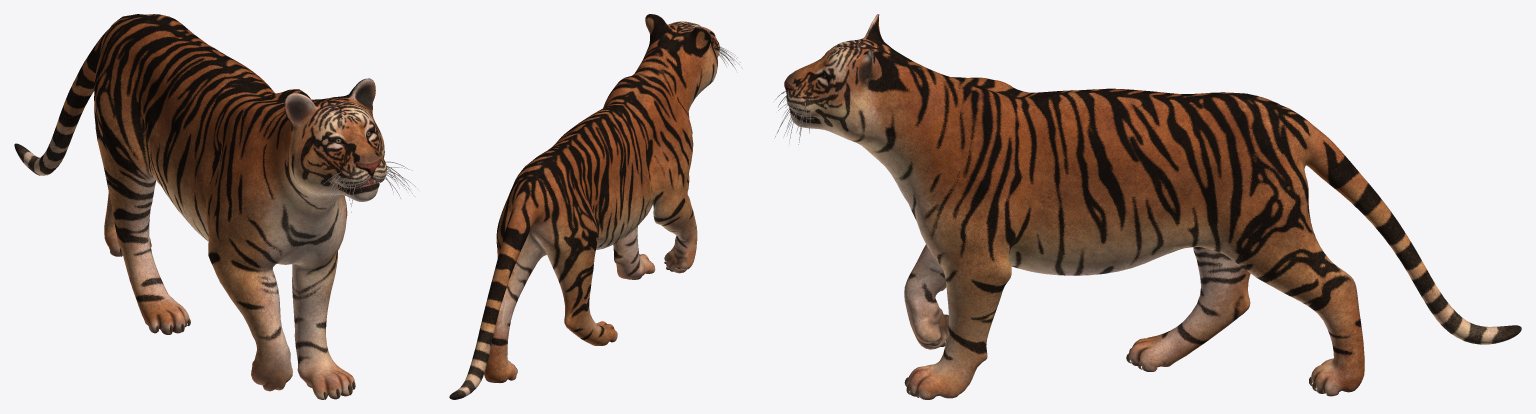
The model's file is Realistic_Tiger.obj.
The picture shows the model from 3 angles, left to right: view 1: azimuth 30°, elevation 25°; view 2: azimuth 150°, elevation 25°; view 3: azimuth 270°, elevation 25°; orthographic projection. The views are drawn at different scales.
Parts seen in each view (by area): view 1: Realistic_Tiger; view 2: Realistic_Tiger; view 3: Realistic_Tiger.
Part boxes in pixels (x1,y1,x2,y2): Realistic_Tiger: (14, 14, 415, 399); Realistic_Tiger: (449, 14, 742, 399); Realistic_Tiger: (774, 14, 1521, 399).
Size of the model in its own units: 0.6588 by 1.8 by 3.53.
1 material, 1 textured.
